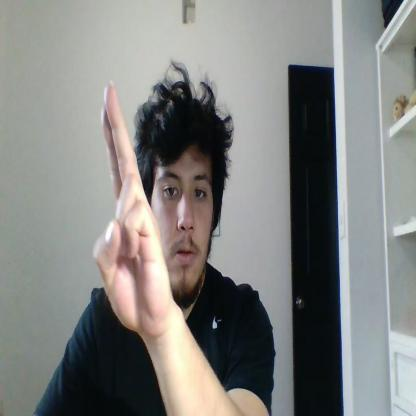U: (94, 80, 172, 330)
